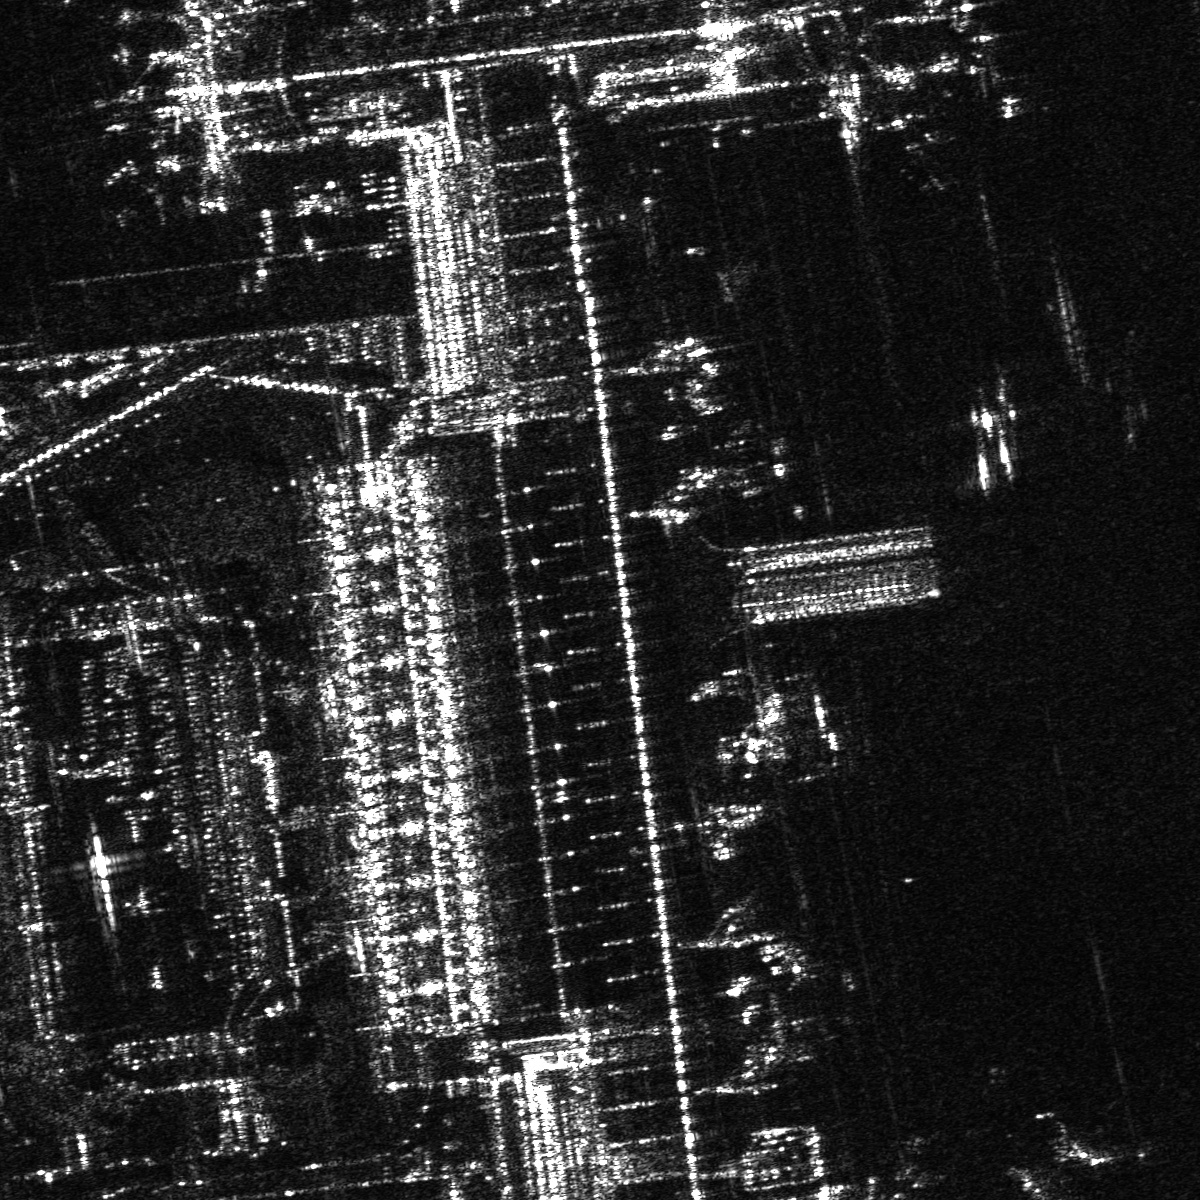Boeing737: (111, 175, 170, 229)
